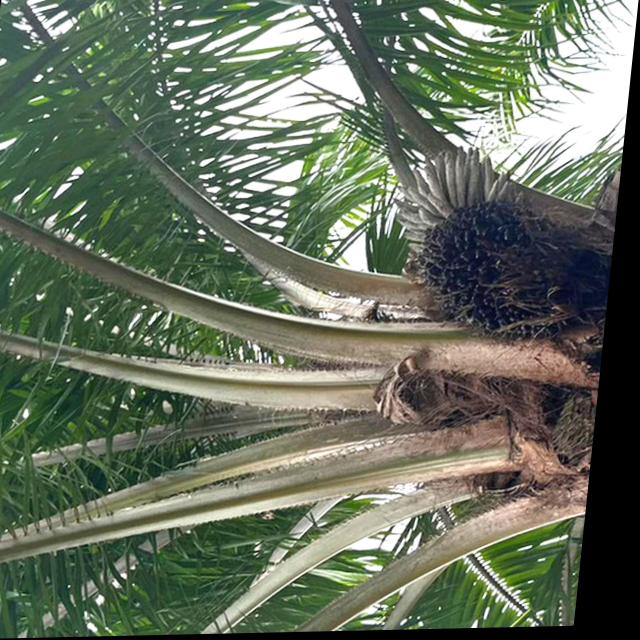unripe: (410, 197, 603, 349)
